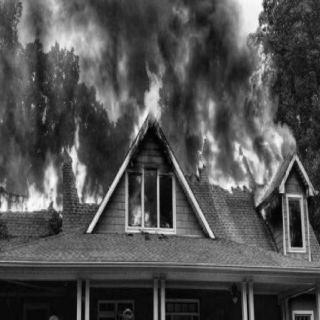Fire: (1, 18, 297, 234)
